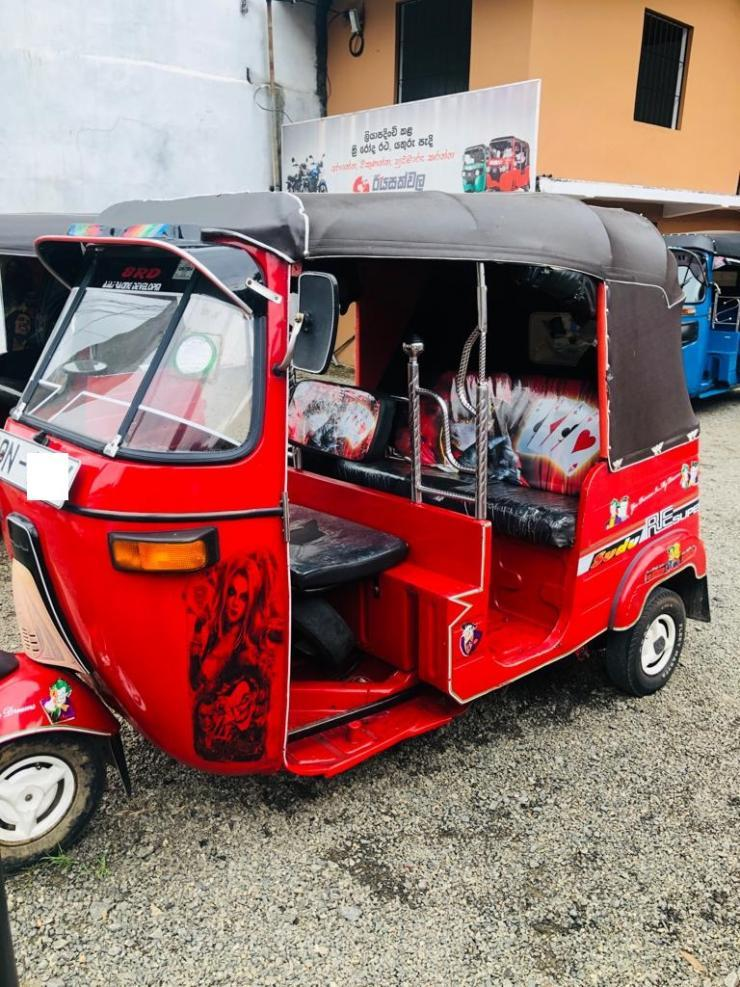threewheel: (1, 190, 706, 868), (662, 230, 740, 402), (482, 135, 529, 191), (461, 144, 485, 193)
